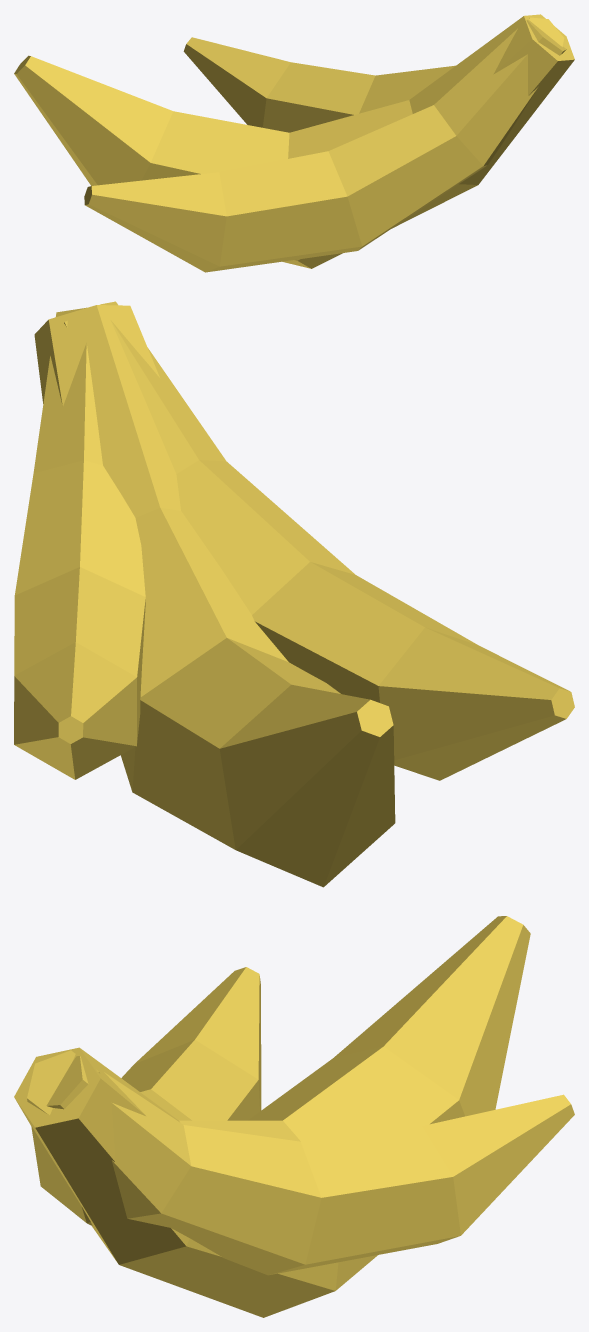
The model's file is Banane_objet_V001.fbx.
The picture shows the model from 3 angles, top to bottom: view 1: azimuth 30°, elevation 25°; view 2: azimuth 150°, elevation 25°; view 3: azimuth 270°, elevation 25°; orthographic projection. The views are drawn at different scales.
Visible parts, largest first — view 1: banane_1, banane_1_1, banane_1_2, Cap_1_2, Cap_1_3; view 2: banane_1_1, banane_1, banane_1_2, Cap_2_2; view 3: banane_1_2, banane_1_1, banane_1, Cap_1_2, Cap_1, Cap_1_3.
Boxes of the visible parts, <box> form: banane_1: <box>85,20,566,272</box>; banane_1_1: <box>14,16,574,268</box>; banane_1_2: <box>183,18,529,132</box>; Cap_1_2: <box>524,14,574,60</box>; Cap_1_3: <box>529,17,564,46</box>; banane_1_1: <box>34,305,395,887</box>; banane_1: <box>64,301,569,780</box>; banane_1_2: <box>14,307,145,779</box>; Cap_2_2: <box>357,699,393,736</box>; banane_1_2: <box>47,1056,574,1275</box>; banane_1_1: <box>15,916,530,1317</box>; banane_1: <box>27,967,261,1225</box>; Cap_1_2: <box>14,1047,100,1127</box>; Cap_1: <box>27,1050,98,1115</box>; Cap_1_3: <box>46,1056,82,1105</box>.
Bounding box in the file's own units: 164 × 99.22 × 137.
